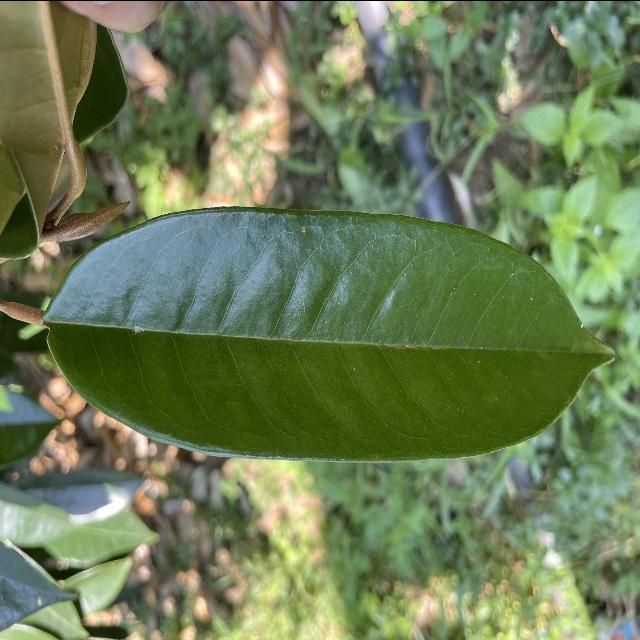No Disease: (37, 195, 621, 471)
